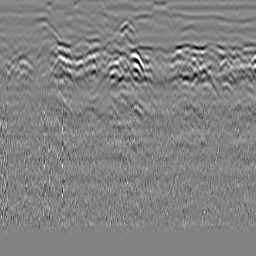cavity: (118, 18, 136, 41)
